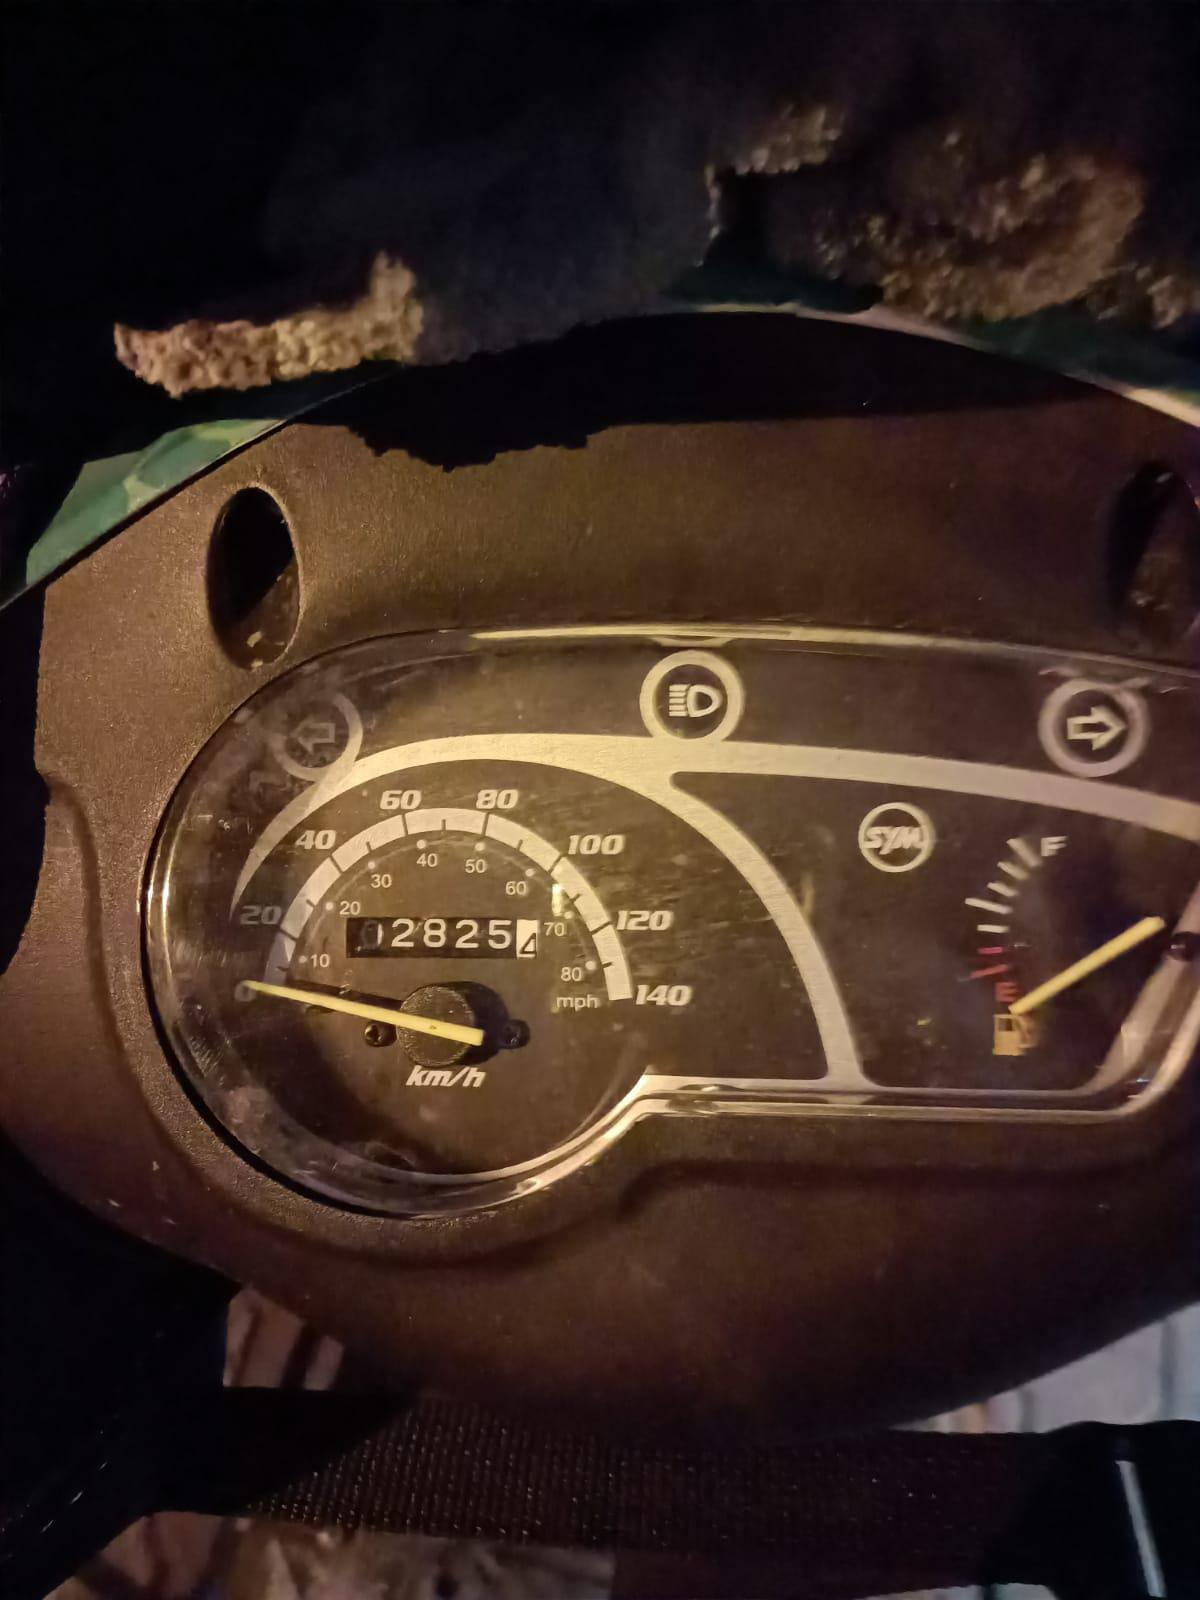0: (358, 916, 383, 951)
2: (389, 916, 416, 950), (453, 918, 480, 950)
4: (519, 931, 539, 957)
5: (487, 918, 513, 949)
8: (421, 917, 447, 949)
odometer: (344, 915, 541, 961)
